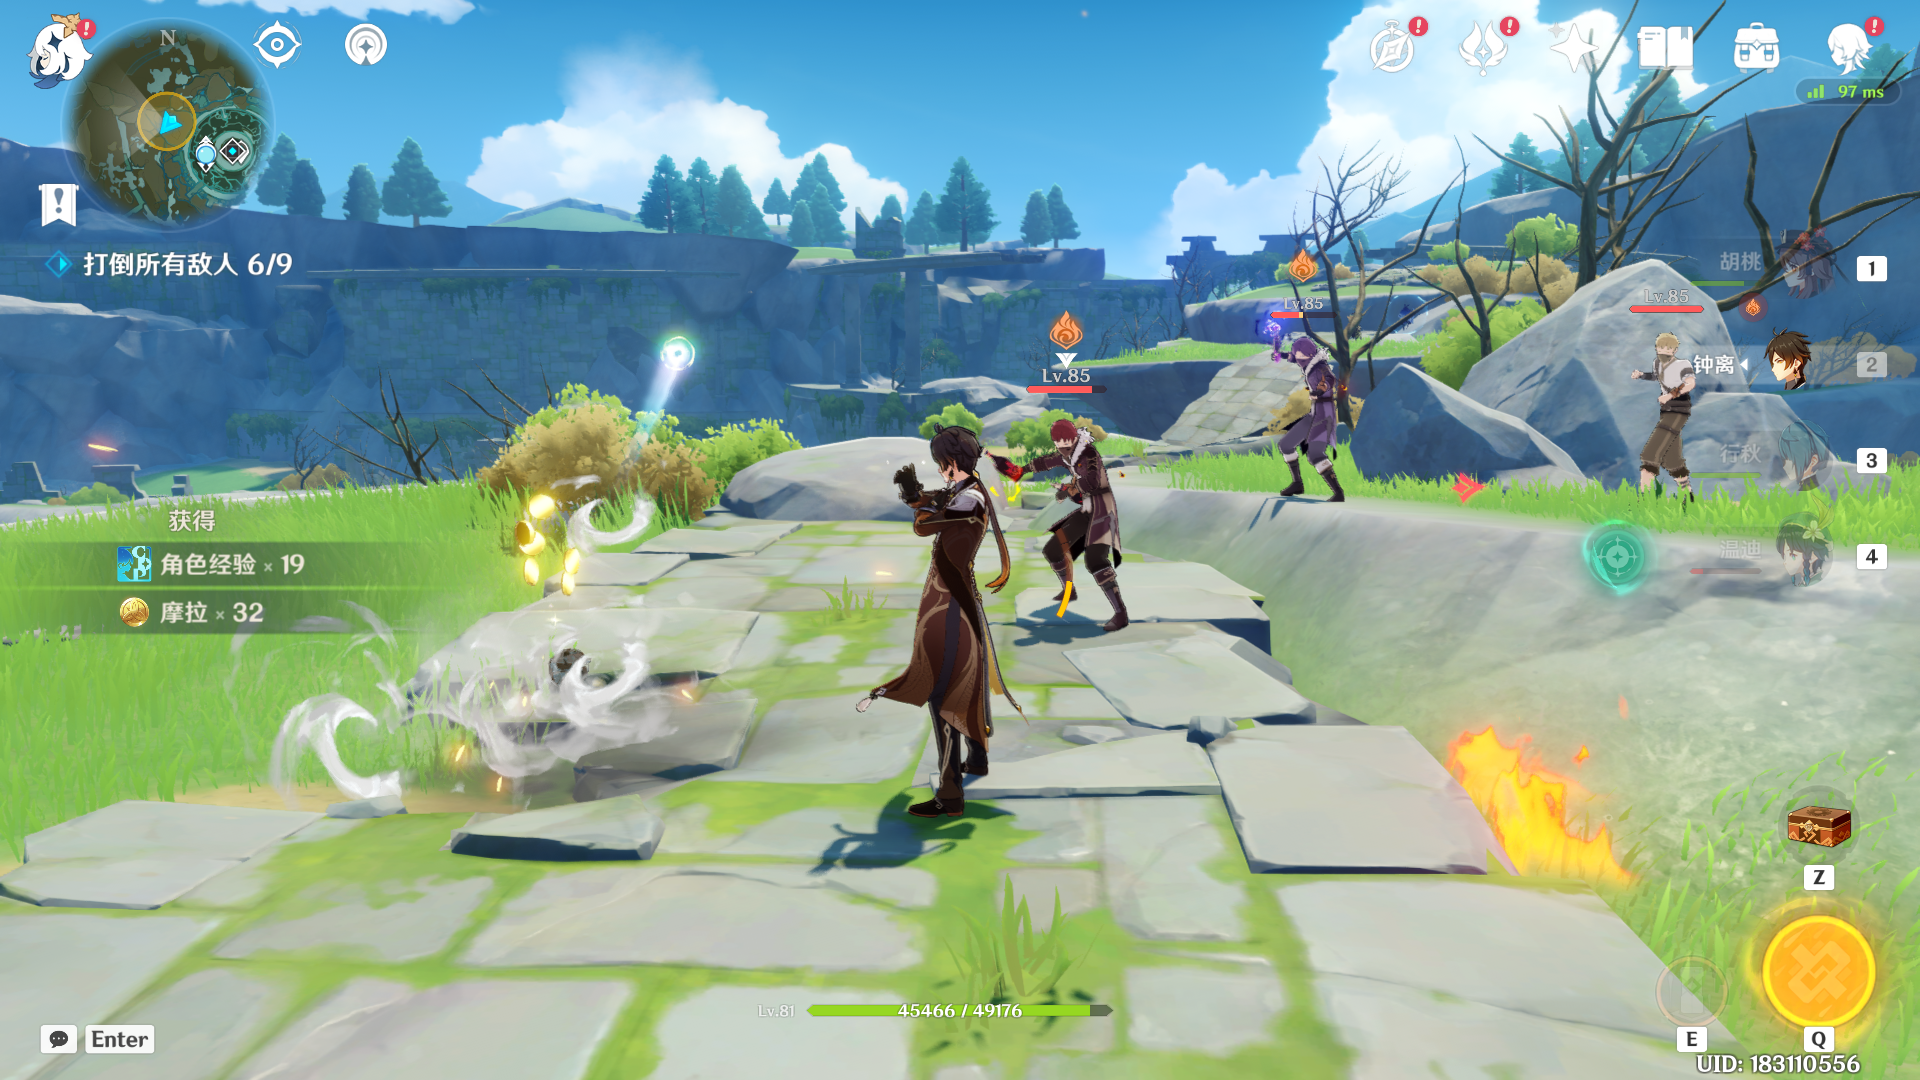character: (837, 392, 1068, 832)
robber: (986, 396, 1193, 659), (1609, 320, 1747, 546), (1265, 314, 1394, 553)
